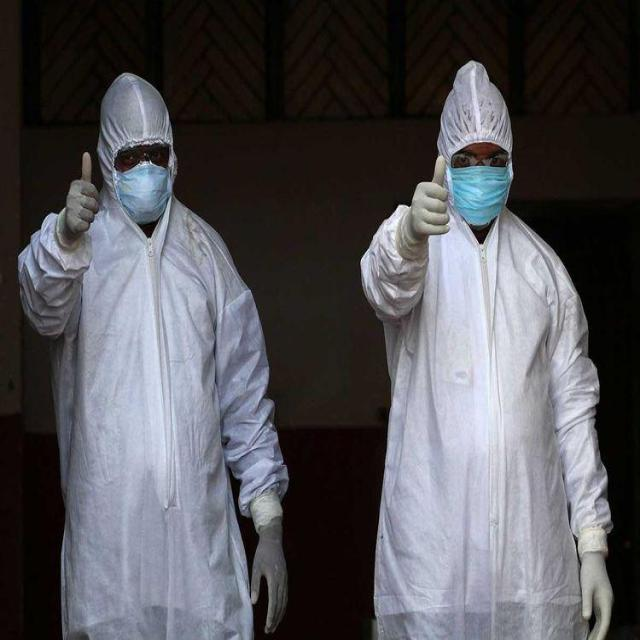Coverall: (18, 67, 288, 634), (355, 57, 614, 634)
Gloves: (251, 516, 293, 633), (54, 149, 99, 245), (410, 147, 452, 237), (577, 550, 616, 639)
Goggles: (103, 140, 177, 173), (447, 148, 511, 177)
Mask: (447, 162, 514, 227), (115, 164, 173, 223)
